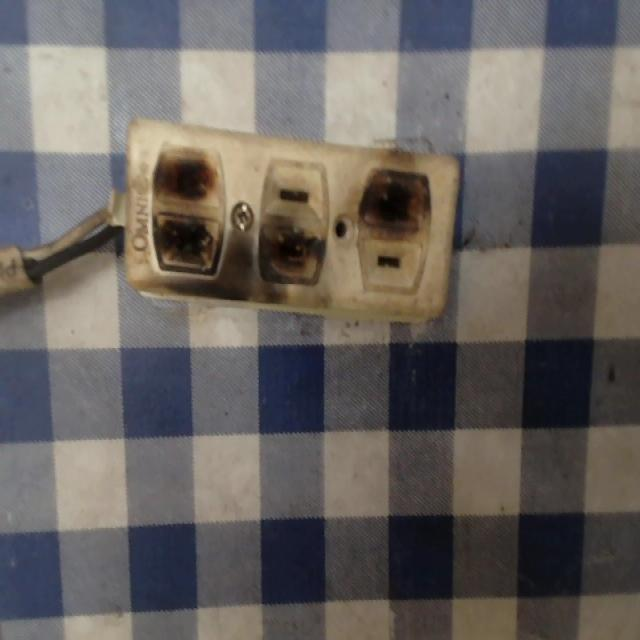-: (147, 131, 228, 288), (353, 162, 443, 235), (255, 215, 333, 297)
